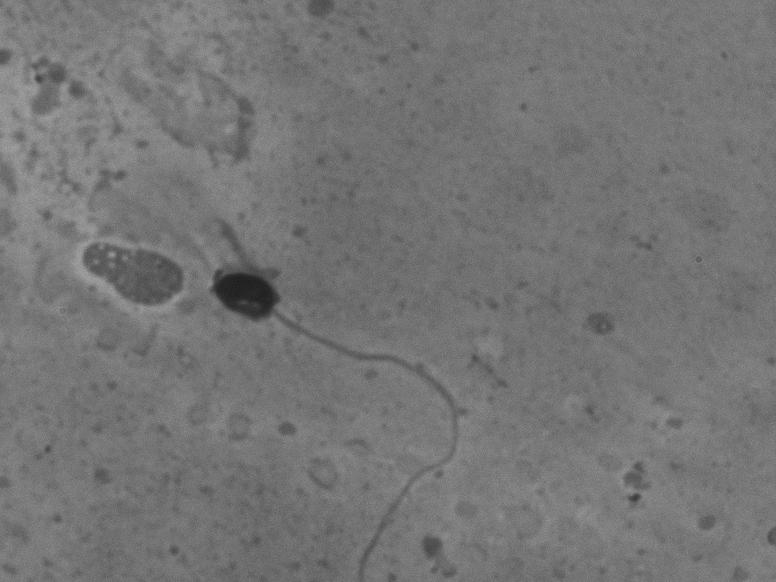Abnormal: (197, 255, 483, 572)
